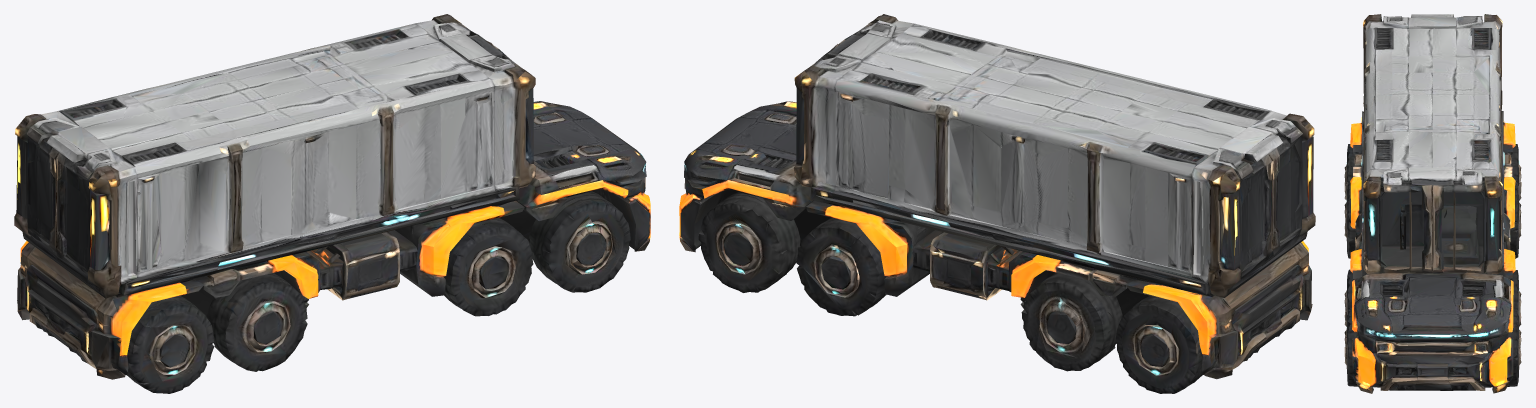
Rendered from truck.glb.
3 renders of one model, left to right at view 1: azimuth 30°, elevation 25°; view 2: azimuth 150°, elevation 25°; view 3: azimuth 270°, elevation 25°, orthographic. The views are drawn at different scales.
Visible parts, largest first — view 1: truck; view 2: truck; view 3: truck.
Part boxes in pixels (x1,y1,x2,y2): truck: [14, 14, 650, 393]; truck: [679, 14, 1315, 393]; truck: [1344, 14, 1521, 393].
Size of the model in its own units: 13.99 by 5.38 by 4.7.
Materials: 1 (1 with a texture image).
